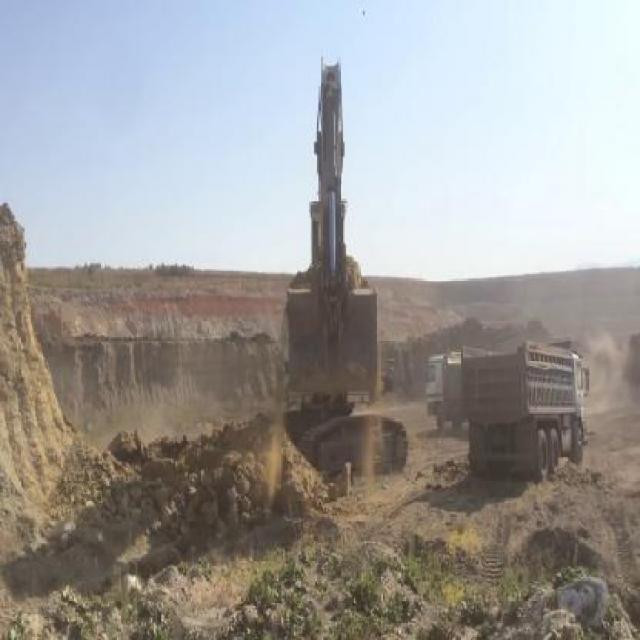Dump Truck: (466, 338, 588, 480), (424, 348, 468, 430)
Excavator: (260, 52, 408, 480)
